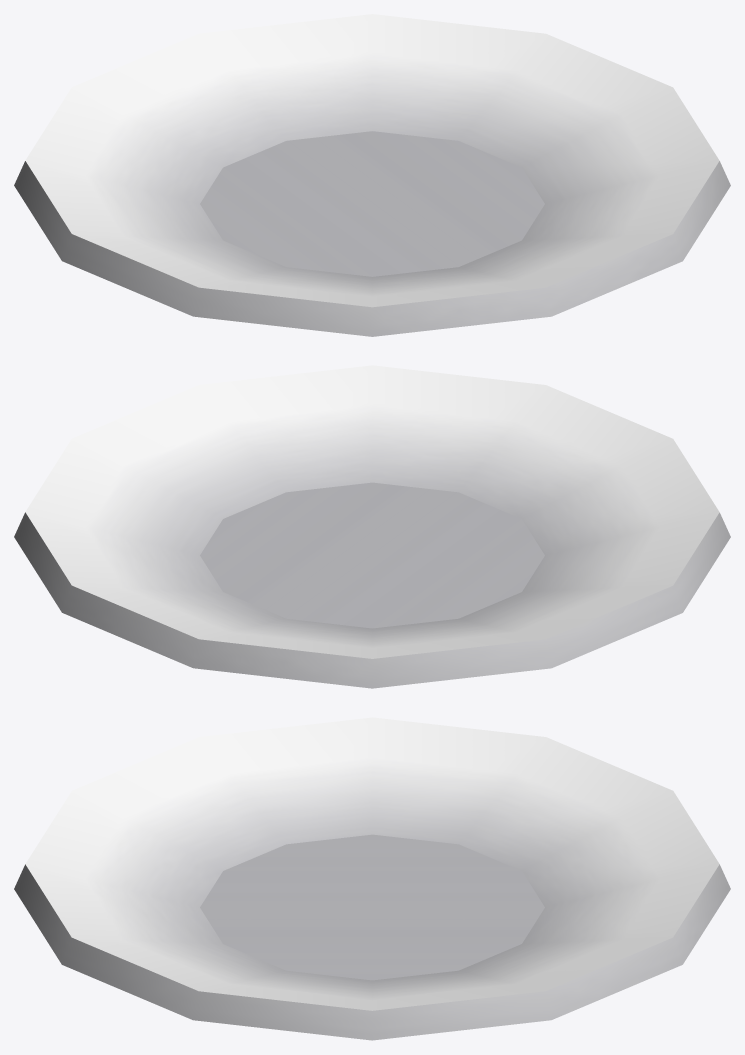
File: m_Saucer01.fbx
The picture shows the model from 3 angles, top to bottom: view 1: azimuth 30°, elevation 25°; view 2: azimuth 150°, elevation 25°; view 3: azimuth 270°, elevation 25°; orthographic projection.
Visible parts, largest first — view 1: m_Saucer01; view 2: m_Saucer01; view 3: m_Saucer01.
Boxes of the visible parts, x1,y1,x2,y2 form: m_Saucer01: [14, 14, 730, 336]; m_Saucer01: [14, 365, 730, 688]; m_Saucer01: [14, 717, 730, 1040].
Bounding box in the file's own units: 16.74 × 1.87 × 16.74.
